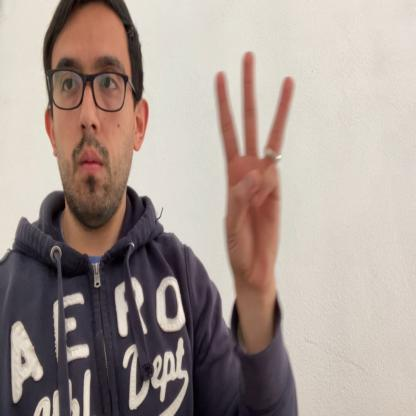W: (216, 48, 294, 294)
